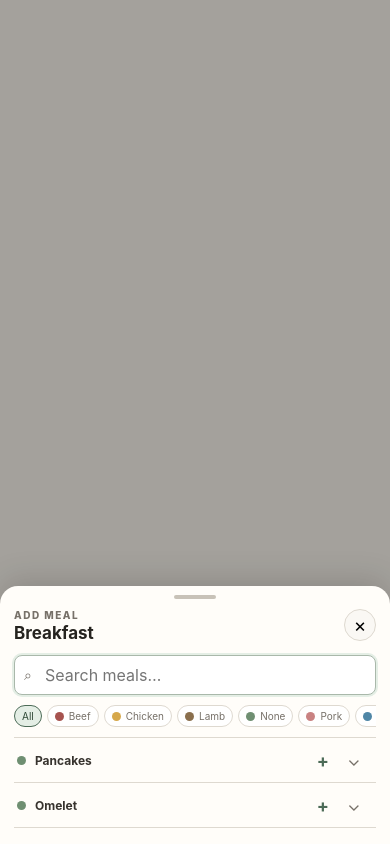
Test: MobileMealPicker › reveals ingredients inline while keeping only one meal expanded
The image size is (390, 844).
Expected: the text "Flour" is not shown
Expected: the text "Cheese" is not shown
Step 1. Click the button named "Show ingredients for Pancakes" → (354, 760), box [332,738,376,782]
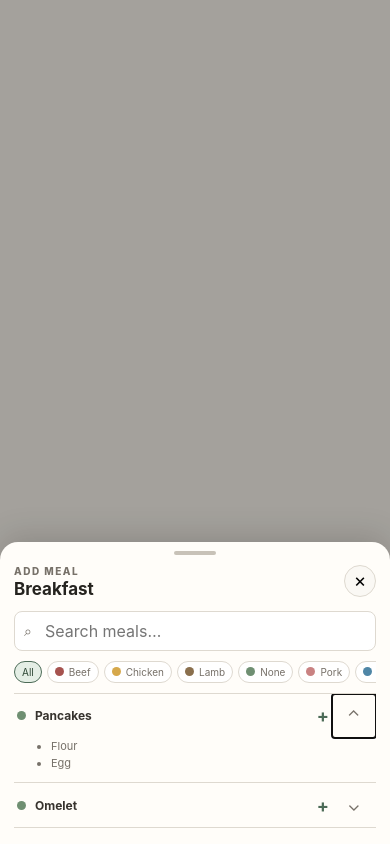
Expected: the button named "Show ingredients for Pancakes" is expanded, [332,694,376,738]
Expected: the list item "Flour" is shown, [51,739,77,753]
Expected: the list item "Egg" is shown, [51,756,71,770]
Step 2. Click the button named "Show ingredients for Omelet" → (354, 805), box [332,783,376,827]
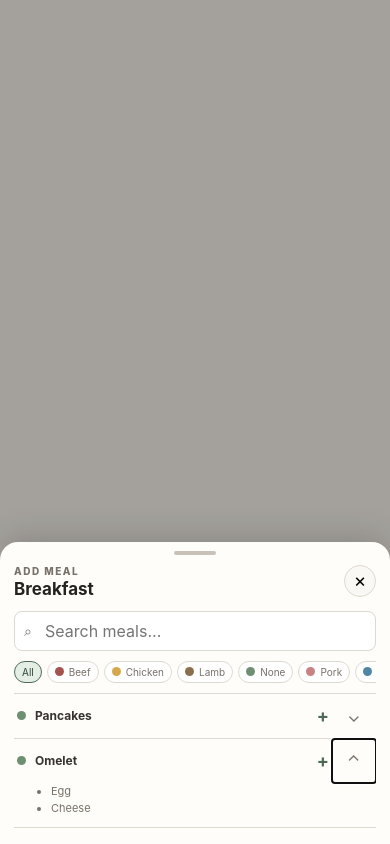
Expected: the list item "Flour" is gone
Expected: the list item "Cheese" is shown, [51,801,91,815]
